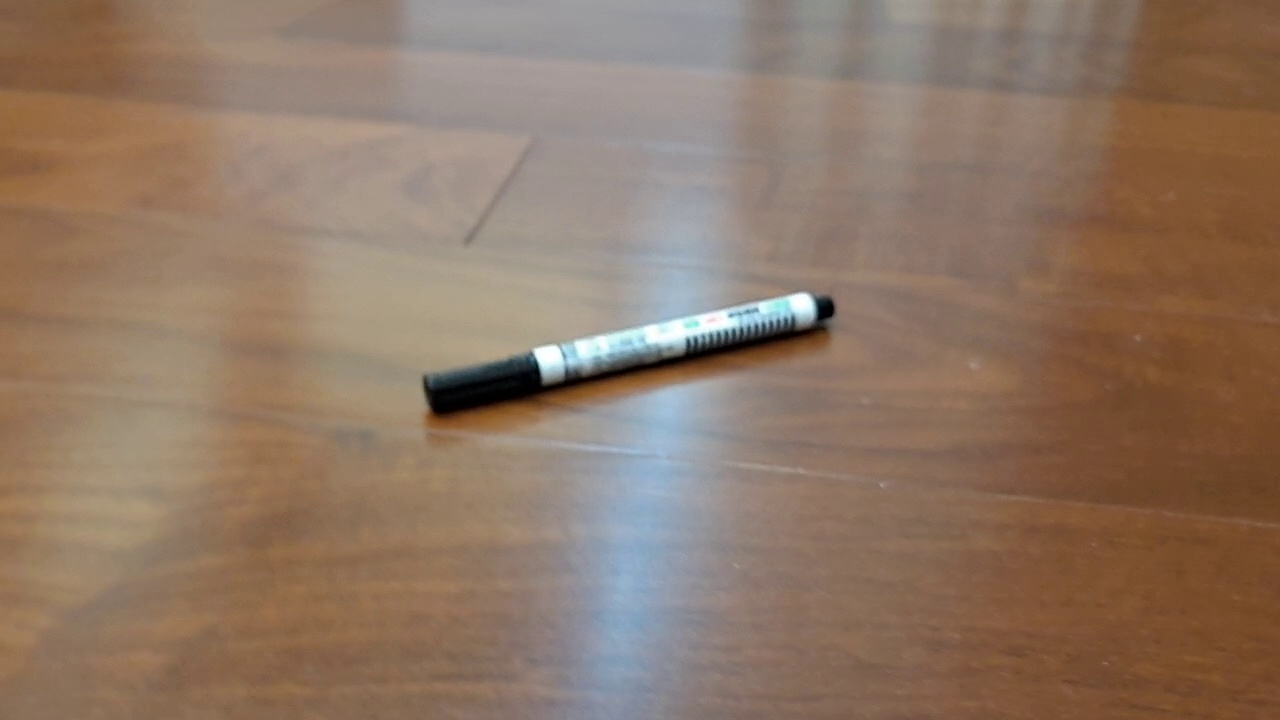pen: (423, 291, 834, 415)
